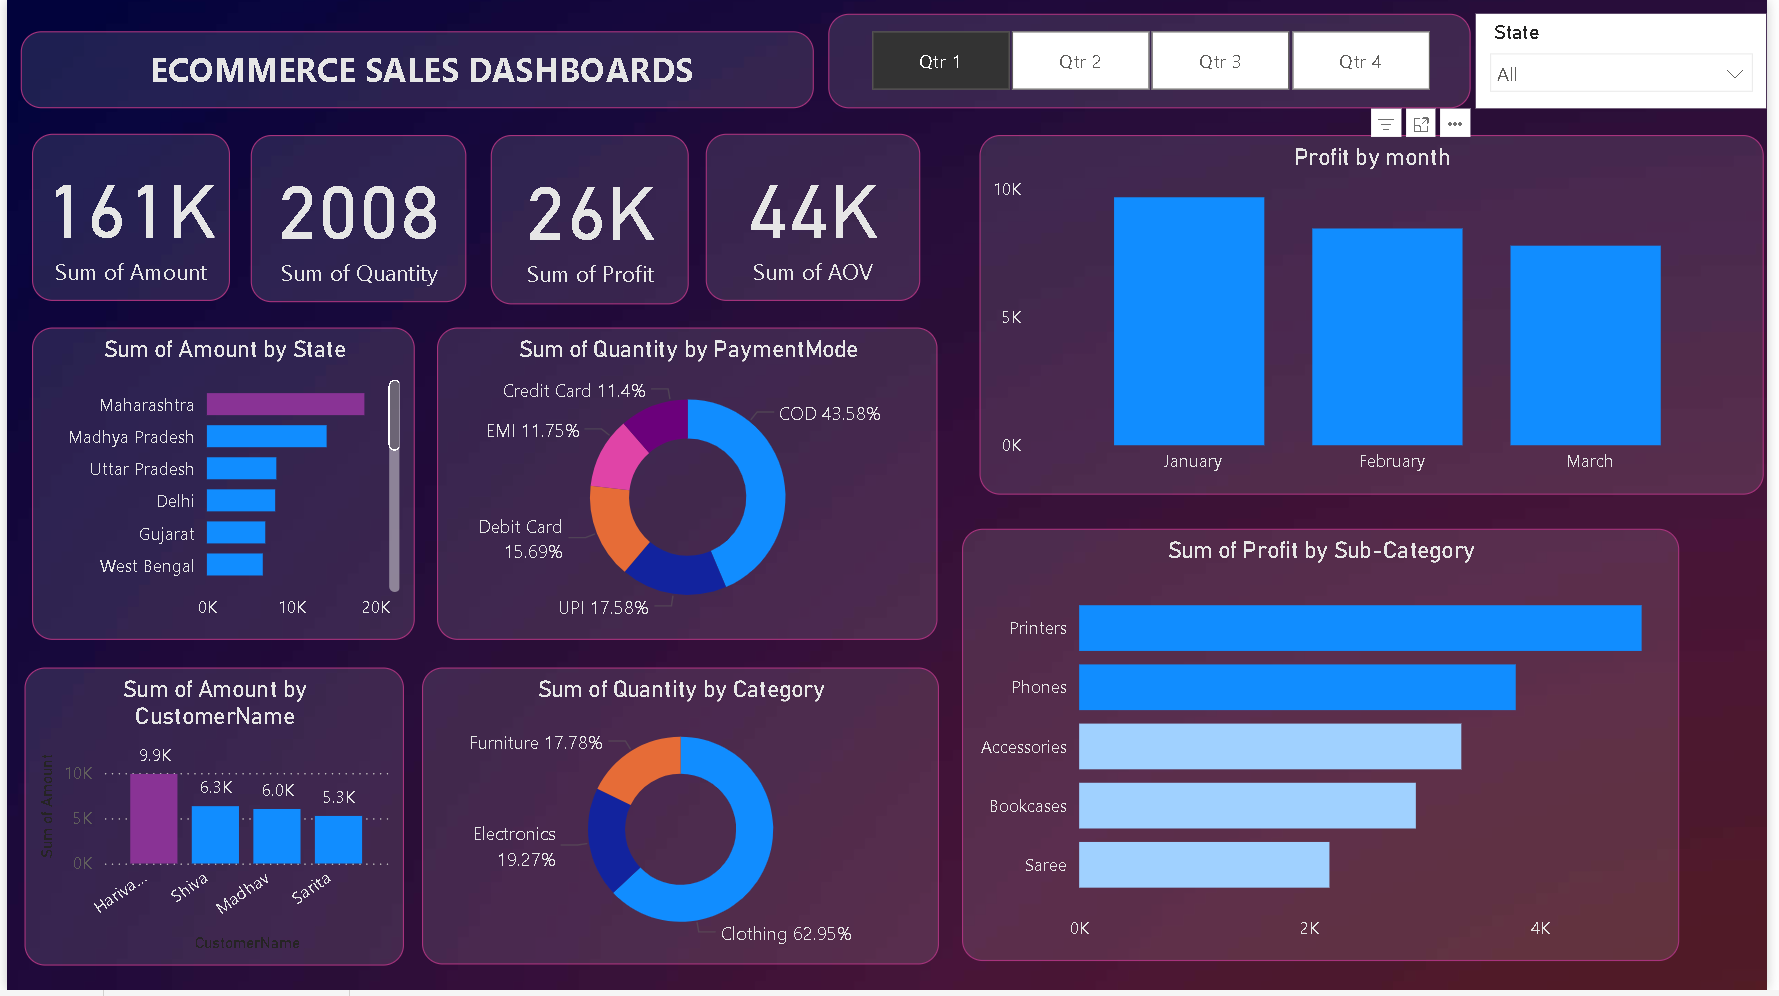

The dashboard page shown, as its layout file describes it:
{"tool":"powerbi","page":{"name":"Page 1","canvas":[1280,720],"ordinal":0},"visuals":[{"type":"columnChart","title":"Profit by month","fields":{"Category":["Orders.Order Date.Variation.Date Hierarchy.Month"],"Y":["Details.Profit"]},"box":[707.1,98.6,570,261.4],"z":0},{"type":"donutChart","fields":{"Category":["Details.Category"],"Y":["Details.Quantity"]},"box":[301.4,485.7,375.7,215.7],"z":1000},{"type":"donutChart","fields":{"Category":["Details.PaymentMode","Details.Category"],"Y":["Details.Quantity"]},"box":[312.9,238.6,364.3,227.1],"z":2000},{"type":"card","fields":{"Values":["Details.Amount"]},"box":[18.6,97.1,144.3,121.4],"z":3000},{"type":"card","fields":{"Values":["Details.Quantity"]},"box":[177.1,98.6,157.1,121.4],"z":4000},{"type":"card","fields":{"Values":["Details.Profit"]},"box":[351.4,98.6,144.3,122.9],"z":5000},{"type":"card","fields":{"Values":["Details.AOV"]},"box":[508.6,97.1,155.7,121.4],"z":6000},{"type":"barChart","fields":{"Category":["Orders.State"],"Y":["Details.Amount"]},"box":[18.6,238.6,278.6,227.1],"z":7000},{"type":"columnChart","fields":{"Category":["Orders.CustomerName"],"Y":["Details.Amount"]},"box":[12.9,485.7,275.7,217.1],"z":8000},{"type":"textbox","box":[10,22.9,577.1,55.7],"z":9000},{"type":"slicer","fields":{"Values":["Orders.Order Date.Variation.Date Hierarchy.Quarter"]},"box":[597.1,10,467.1,68.6],"z":10000},{"type":"slicer","fields":{"Values":["Orders.State"]},"box":[1068.6,10,211.4,68.6],"z":11000},{"type":"barChart","fields":{"Category":["Details.Sub-Category"],"Y":["Details.Profit"]},"box":[694.3,384.2,521.4,314.2],"z":12000}]}

Visuals, with their boxes in screenshot pixels (x1, y1, x2, y2), scaled from the page's 1280x720 canvas onto the 1779x996 screenshot:
"Profit by month" columnChart: Rect(983, 136, 1775, 498)
donutChart - Details.Category x Details.Quantity: Rect(419, 672, 941, 970)
donutChart - Details.PaymentMode x Details.Category: Rect(435, 330, 941, 644)
card - Details.Amount: Rect(26, 134, 226, 302)
card - Details.Quantity: Rect(246, 136, 464, 304)
card - Details.Profit: Rect(488, 136, 689, 306)
card - Details.AOV: Rect(707, 134, 923, 302)
barChart - Orders.State x Details.Amount: Rect(26, 330, 413, 644)
columnChart - Orders.CustomerName x Details.Amount: Rect(18, 672, 401, 972)
textbox: Rect(14, 32, 816, 109)
slicer - Orders.Order Date.Variation.Date Hierarchy.Quarter: Rect(830, 14, 1479, 109)
slicer - Orders.State: Rect(1485, 14, 1778, 109)
barChart - Details.Sub-Category x Details.Profit: Rect(965, 531, 1690, 966)
